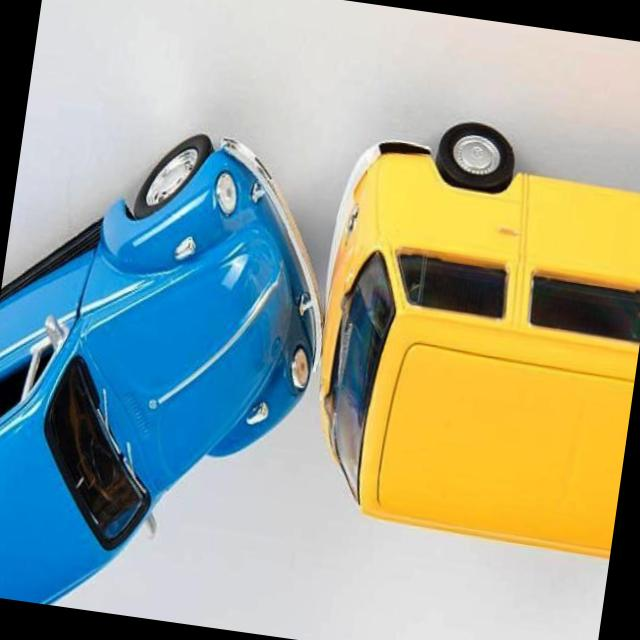car: (0, 115, 344, 637), (293, 108, 640, 552)
